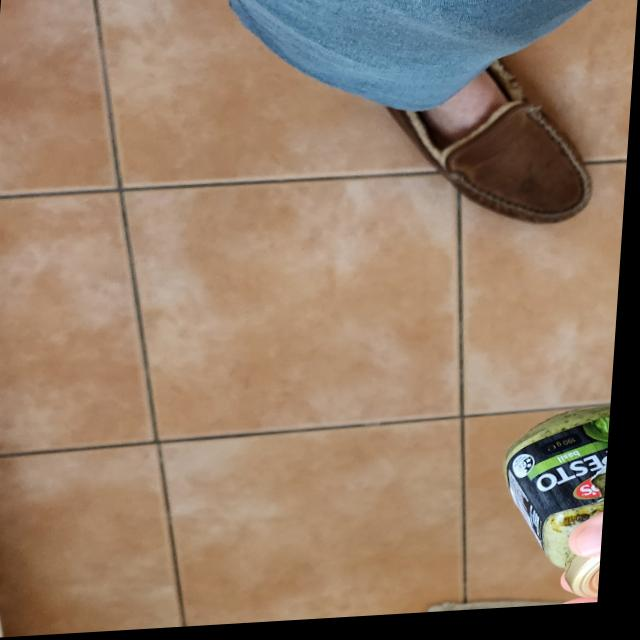basil pesto: (502, 418, 617, 614)
